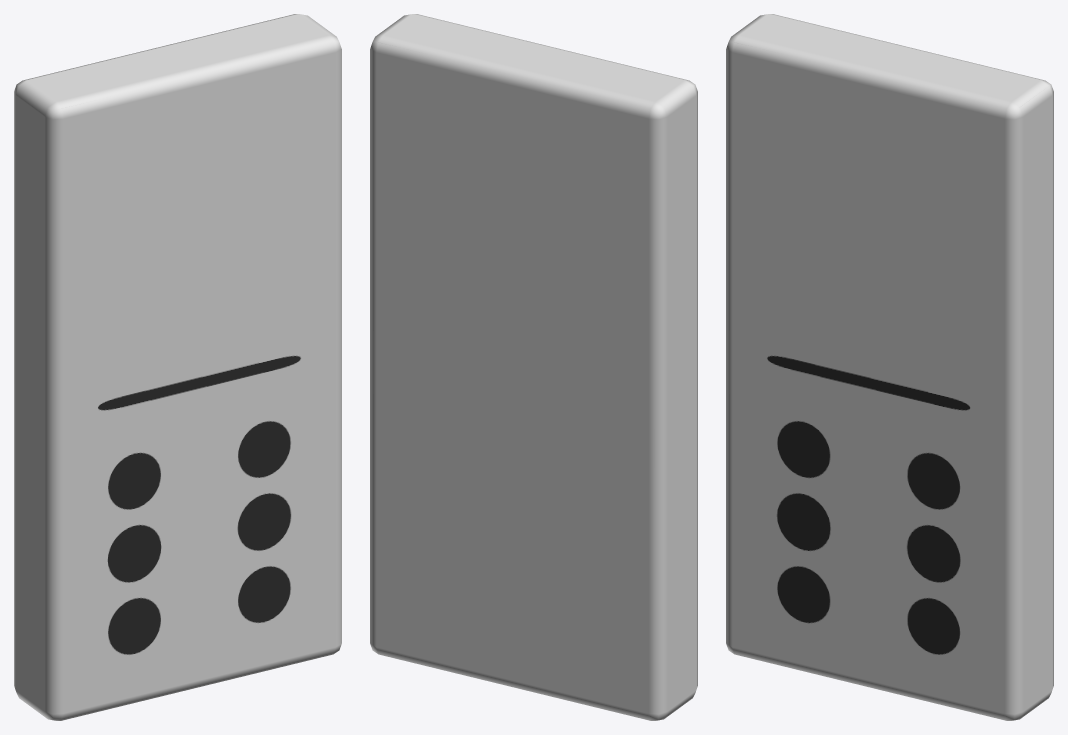
3 views of the same model, side by side, from view 1: azimuth 30°, elevation 25°; view 2: azimuth 150°, elevation 25°; view 3: azimuth 330°, elevation 25° (orthographic).
Visible parts, largest first — view 1: Low; view 2: Low; view 3: Low.
Boxes of the visible parts, x1,y1,x2,y2 form: Low: (14,14,341,720); Low: (370,14,697,720); Low: (726,14,1053,720).
Size of the model in its own units: 0.0254 by 0.0508 by 0.00635.
Materials: 1 (1 with a texture image).
